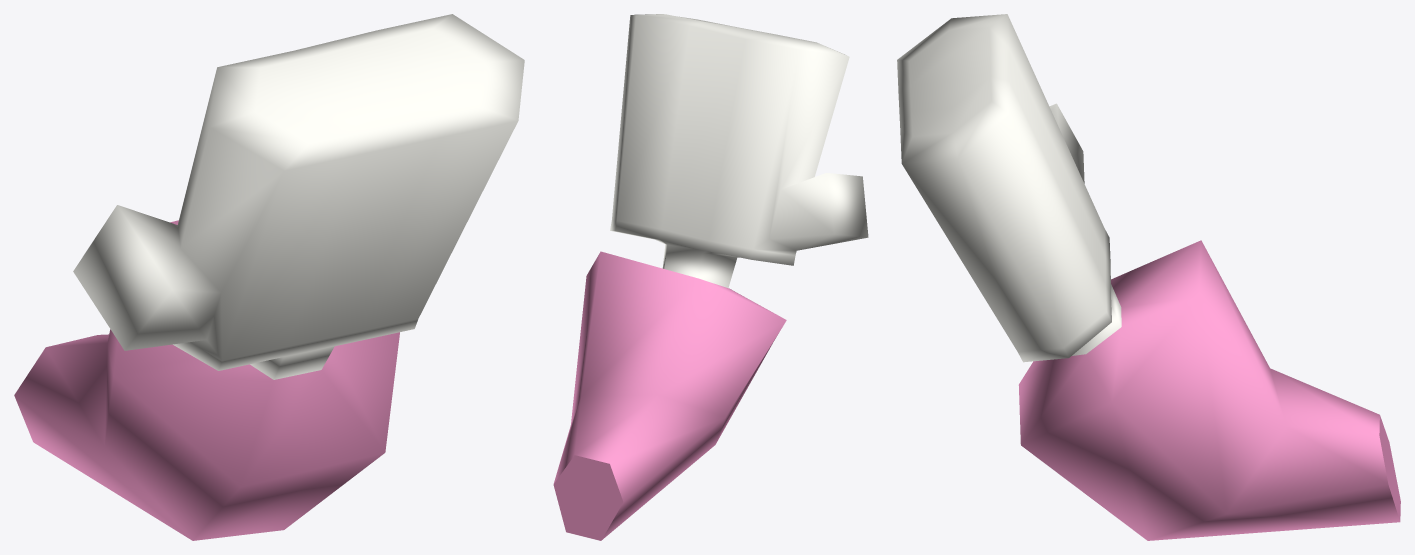
The model's file is Femail Arm2.fbx.
3 renders of one model, left to right at view 1: azimuth 30°, elevation 25°; view 2: azimuth 150°, elevation 25°; view 3: azimuth 270°, elevation 25°, orthographic. The views are drawn at different scales.
Parts seen in each view (by area): view 1: BodyGirl.002; view 2: BodyGirl.002; view 3: BodyGirl.002.
Part boxes in pixels (<box>): BodyGirl.002: <box>14,14,524,540</box>; BodyGirl.002: <box>553,14,868,540</box>; BodyGirl.002: <box>897,14,1400,540</box>.
Size of the model in its own units: 150 by 214 by 210.
